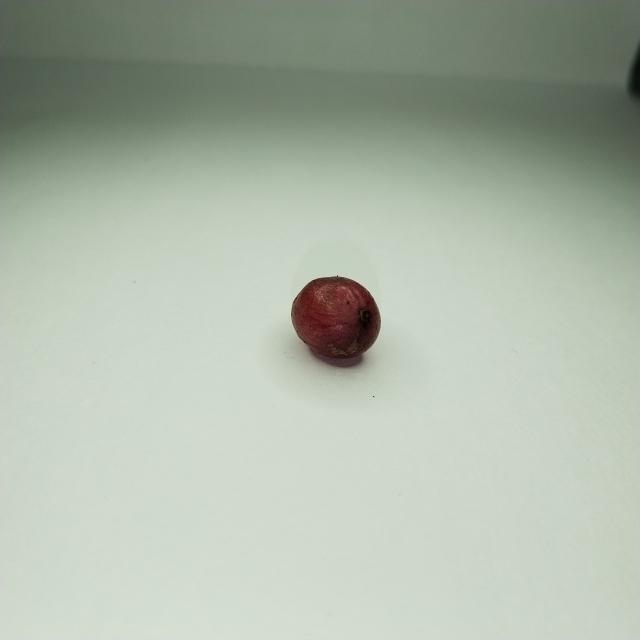Infectado: (291, 278, 381, 358)
